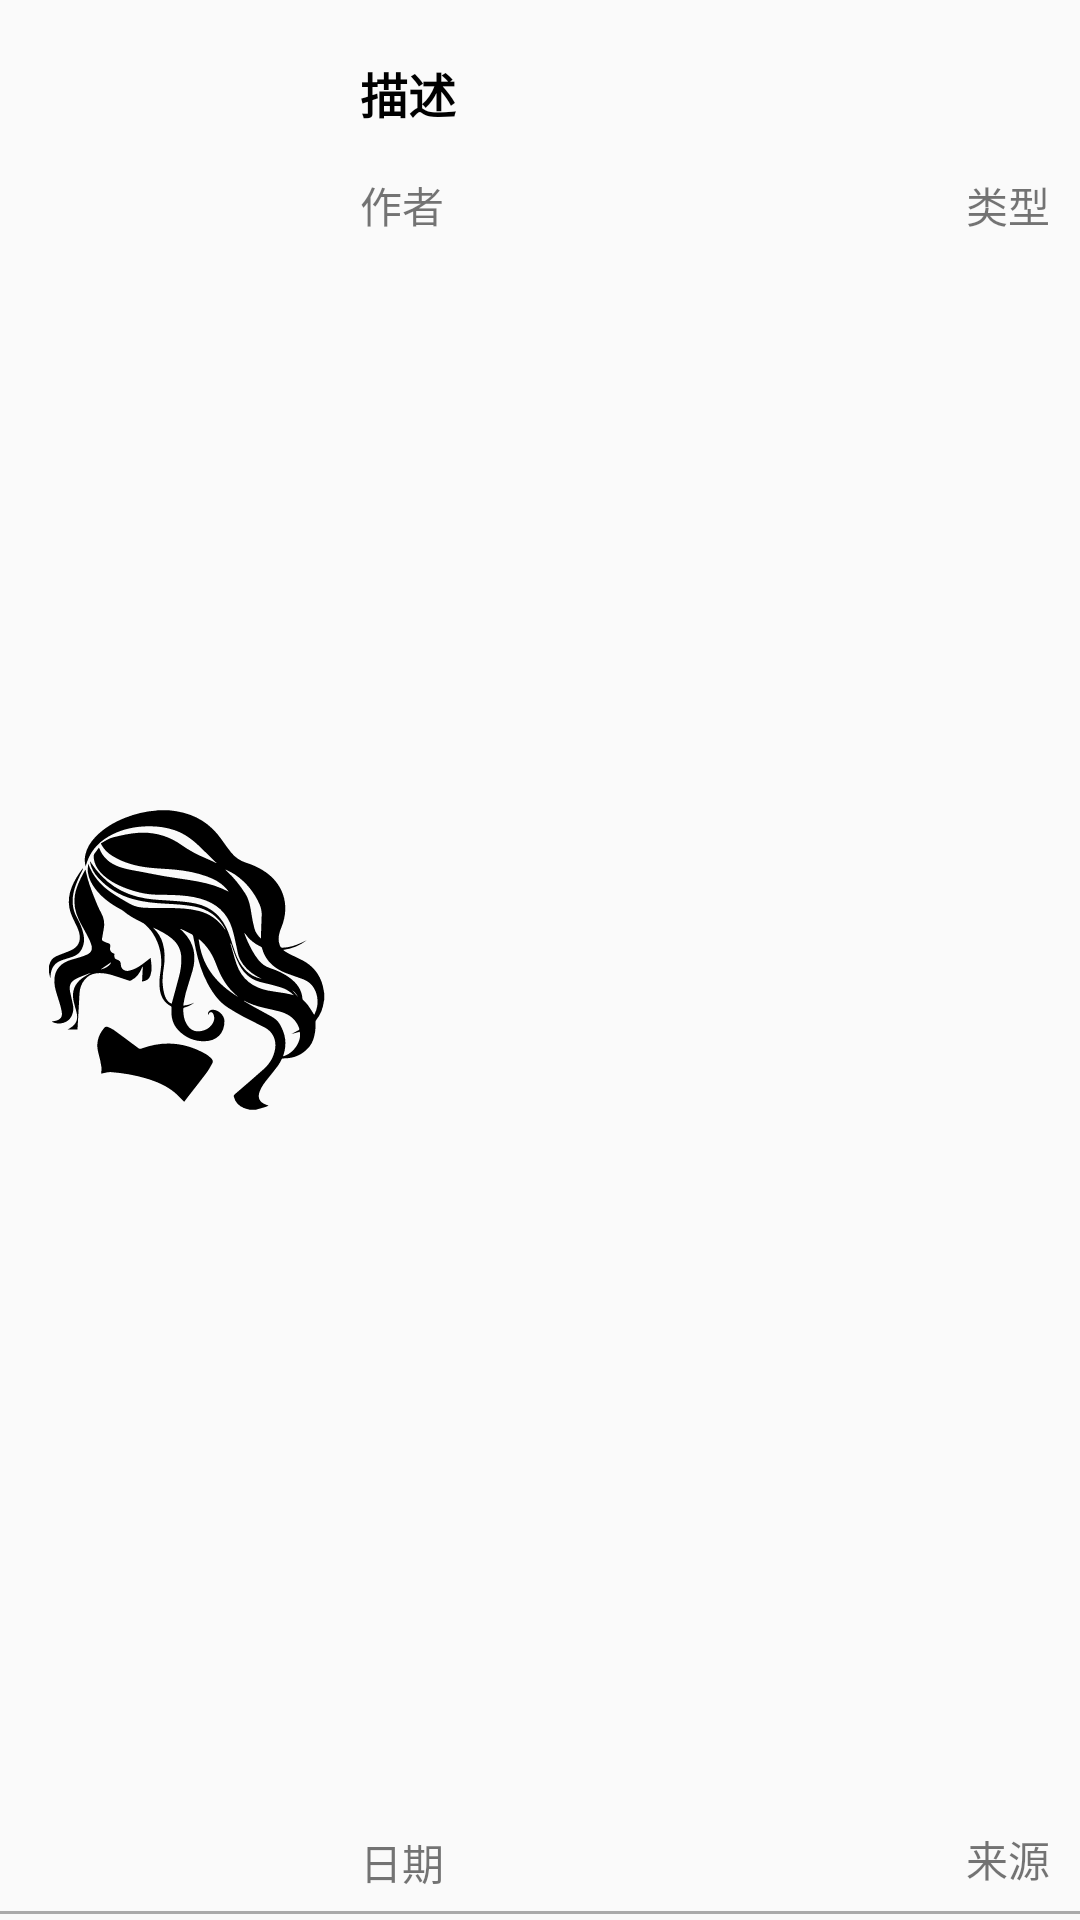

Where to tap for icons on this 1080 x 1920 app screen, as point (x, y):
girls: point (187, 960)
